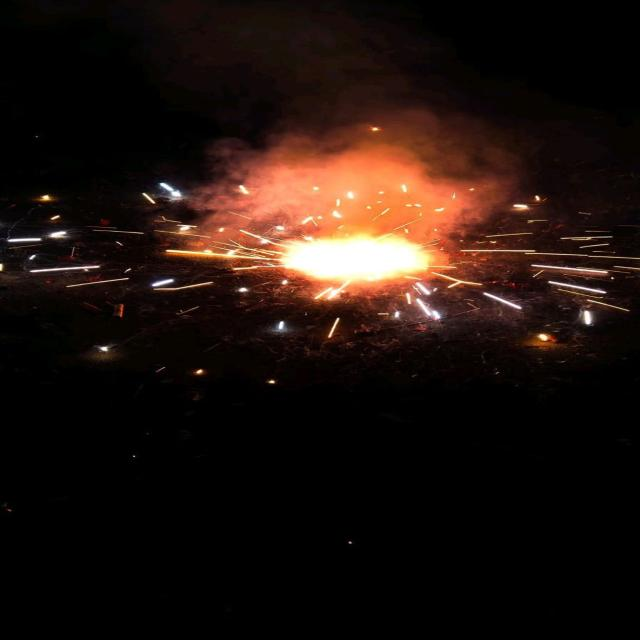fire: (284, 235, 431, 281)
